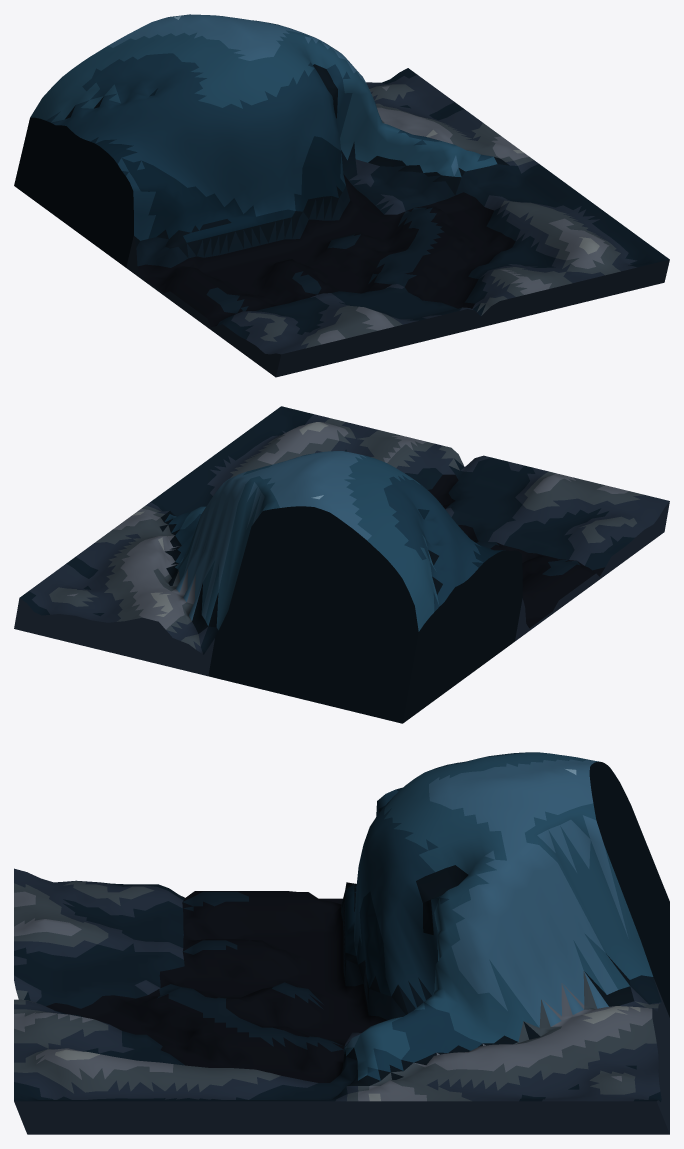
File: gyges_lurker_br.glb
3 renders of one model, top to bottom at view 1: azimuth 30°, elevation 25°; view 2: azimuth 150°, elevation 25°; view 3: azimuth 270°, elevation 25°, orthographic. The views are drawn at different scales.
Visible parts, largest first — view 1: gyges_lurker_br; view 2: gyges_lurker_br; view 3: gyges_lurker_br.
Boxes of the visible parts, x1,y1,x2,y2 form: gyges_lurker_br: [14, 14, 669, 377]; gyges_lurker_br: [14, 406, 669, 723]; gyges_lurker_br: [14, 752, 669, 1134].
Bounding box in the file's own units: 24 × 10.22 × 28.58.
